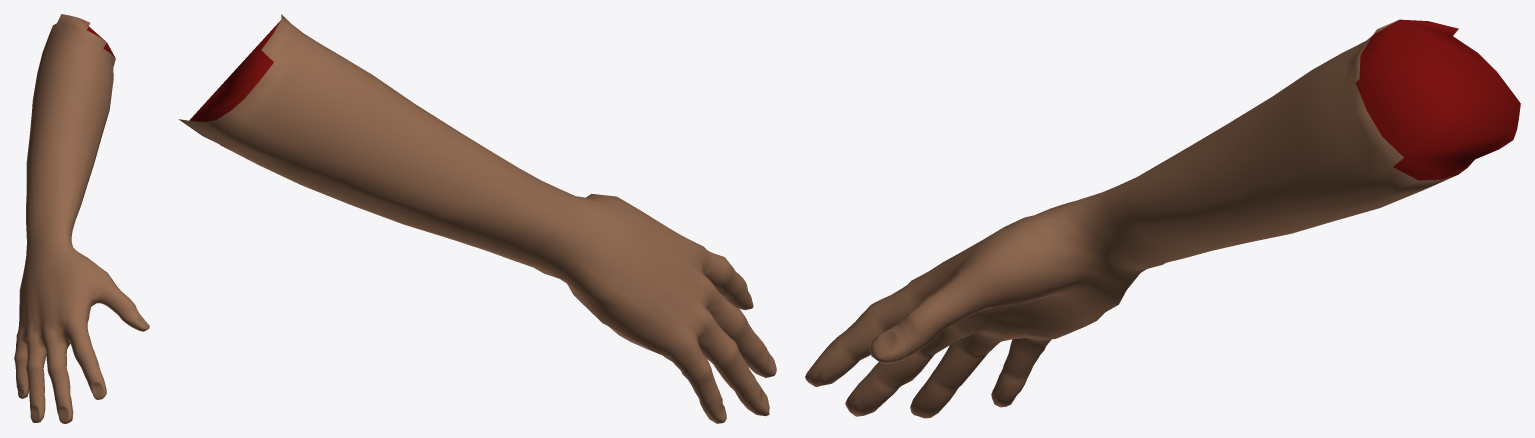
File: SM_Part_F2_arm_r.gltf
The picture shows the model from 3 angles, left to right: view 1: azimuth 30°, elevation 25°; view 2: azimuth 150°, elevation 25°; view 3: azimuth 270°, elevation 25°; orthographic projection. The views are drawn at different scales.
Parts seen in each view (by area): view 1: SM_Part_F2_arm_r; view 2: SM_Part_F2_arm_r; view 3: SM_Part_F2_arm_r.
Boxes of the visible parts, left/top/right/bottom form: SM_Part_F2_arm_r: left=14, top=14, right=149, bottom=423; SM_Part_F2_arm_r: left=179, top=14, right=776, bottom=423; SM_Part_F2_arm_r: left=805, top=19, right=1520, bottom=418.
Bounding box in the file's own units: 0.1997 × 0.2609 × 0.3044.
